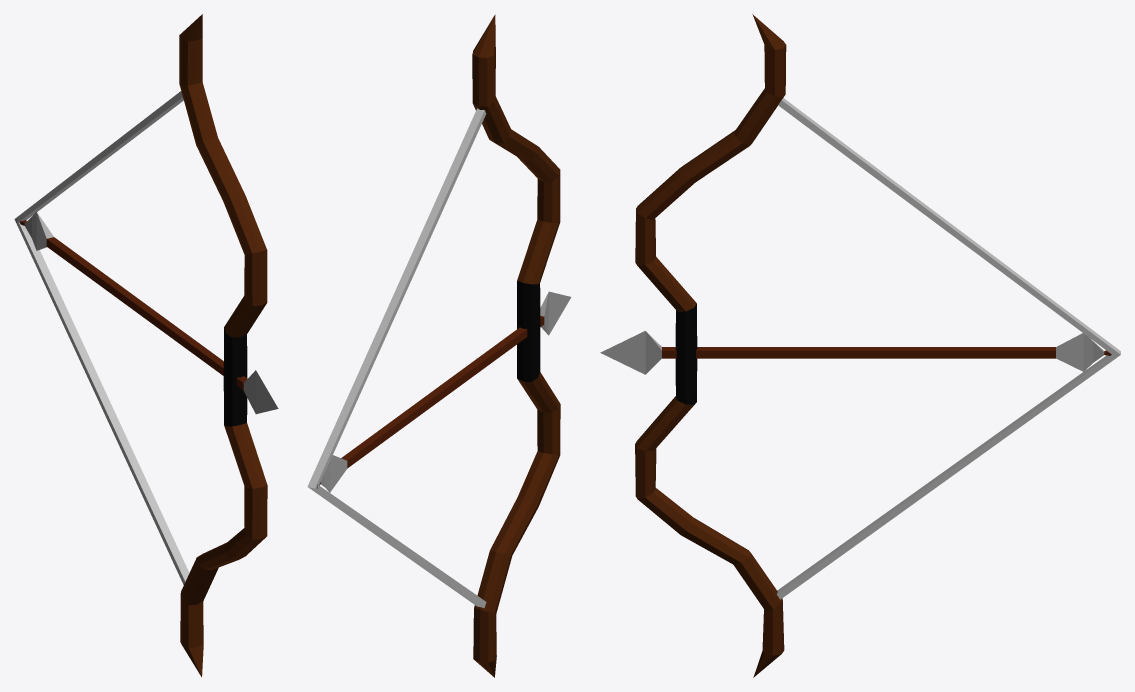
File: S_Weapon_Bow.fbx
3 renders of one model, left to right at view 1: azimuth 30°, elevation 25°; view 2: azimuth 150°, elevation 25°; view 3: azimuth 270°, elevation 25°, orthographic.
Parts seen in each view (by area): view 1: Cube; view 2: Cube; view 3: Cube.
Part boxes in pixels (x1,y1,x2,y2): Cube: (14,14,278,677); Cube: (307,14,571,677); Cube: (600,14,1120,677).
Bounding box in the file's own units: 121 × 5.53 × 170.
